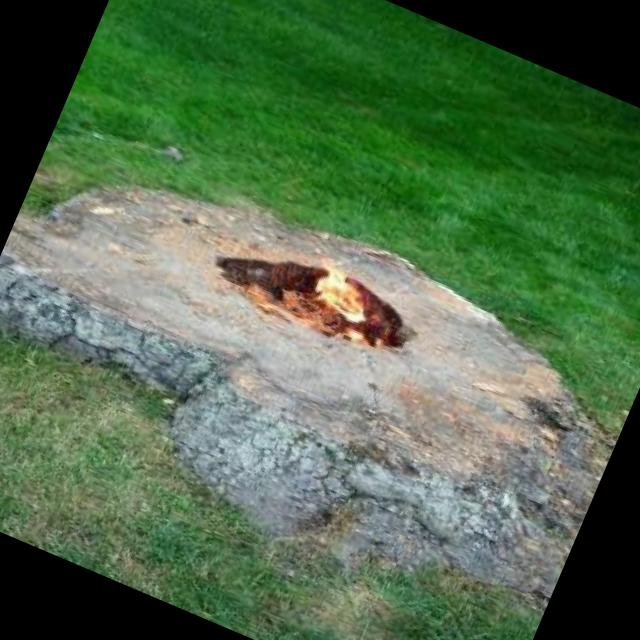fire: (292, 248, 388, 344)
